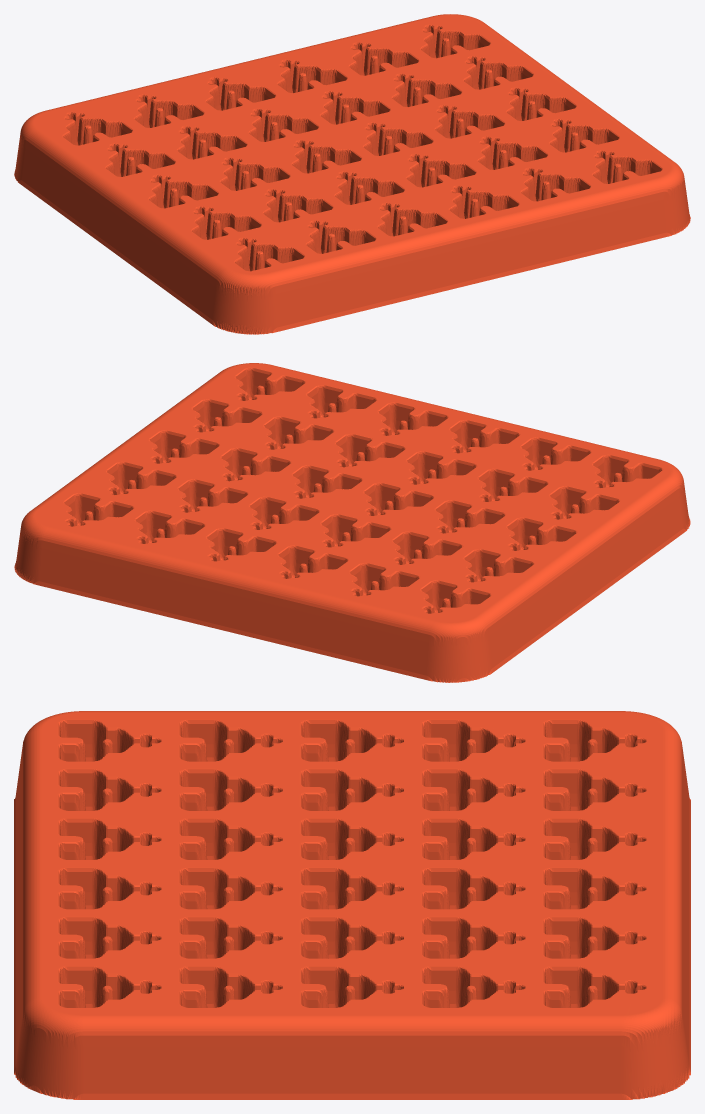
Rendered from mold.glb.
3 views of the same model, one above another, from view 1: azimuth 30°, elevation 25°; view 2: azimuth 150°, elevation 25°; view 3: azimuth 270°, elevation 25° (orthographic). The views are drawn at different scales.
Visible parts, largest first — view 1: geometry_0; view 2: geometry_0; view 3: geometry_0.
Boxes of the visible parts, x1,y1,x2,y2 form: geometry_0: (14,14,690,334); geometry_0: (14,363,690,682); geometry_0: (14,711,690,1099).
Bounding box in the file's own units: 0.1004 × 0.0105 × 0.0882.
